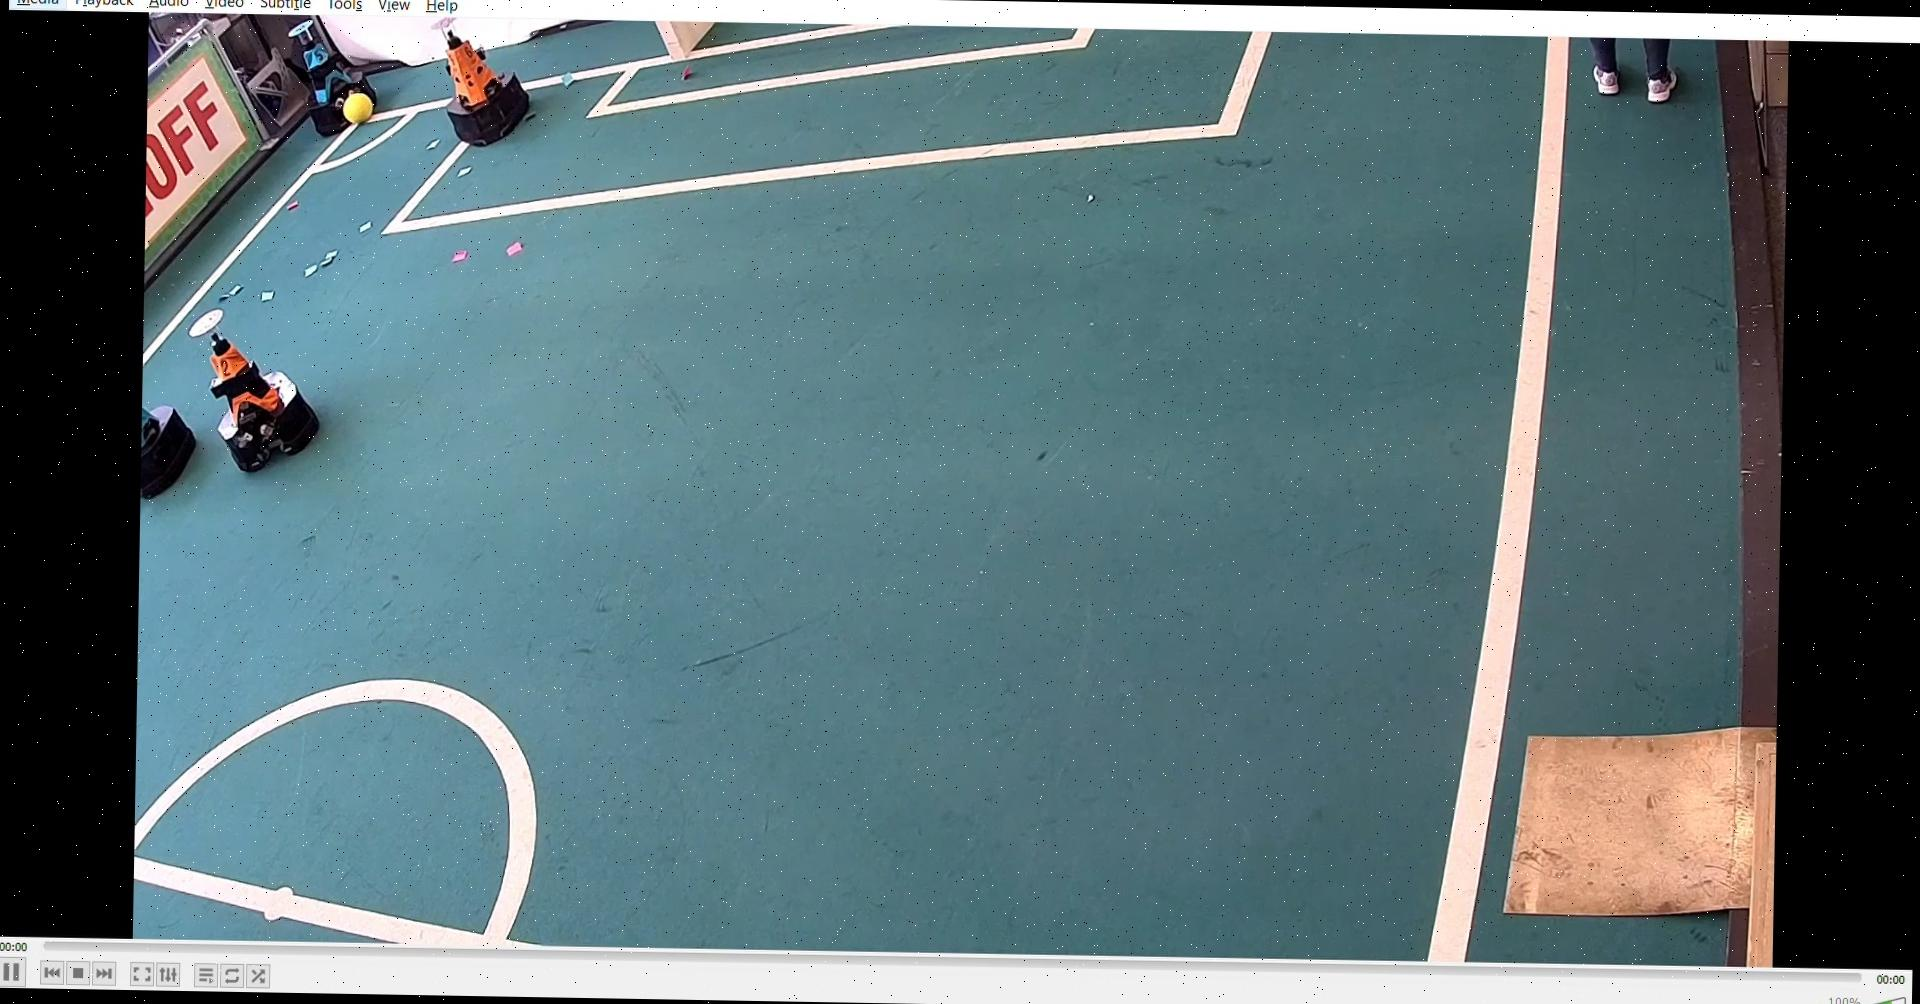Ball: (328, 80, 377, 128)
Team_Blue: (287, 22, 382, 135)
Team_Red: (173, 303, 331, 475), (425, 19, 538, 150)
